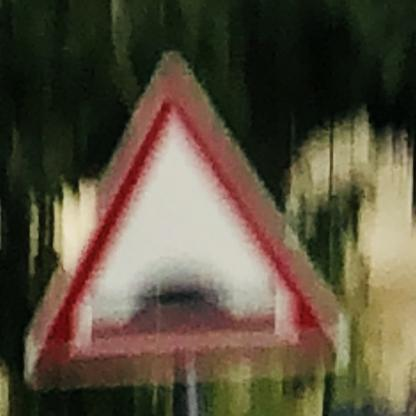Speed Breaker Ahead: (23, 46, 355, 392)
